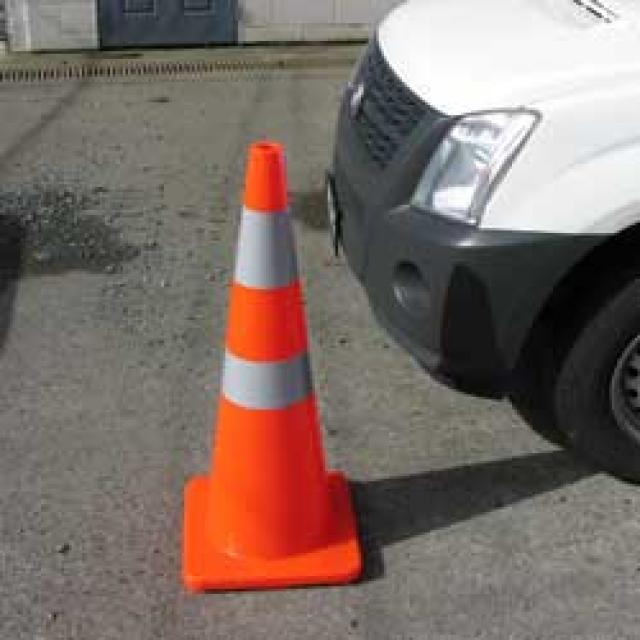Traffic Cone: (125, 56, 442, 622)
